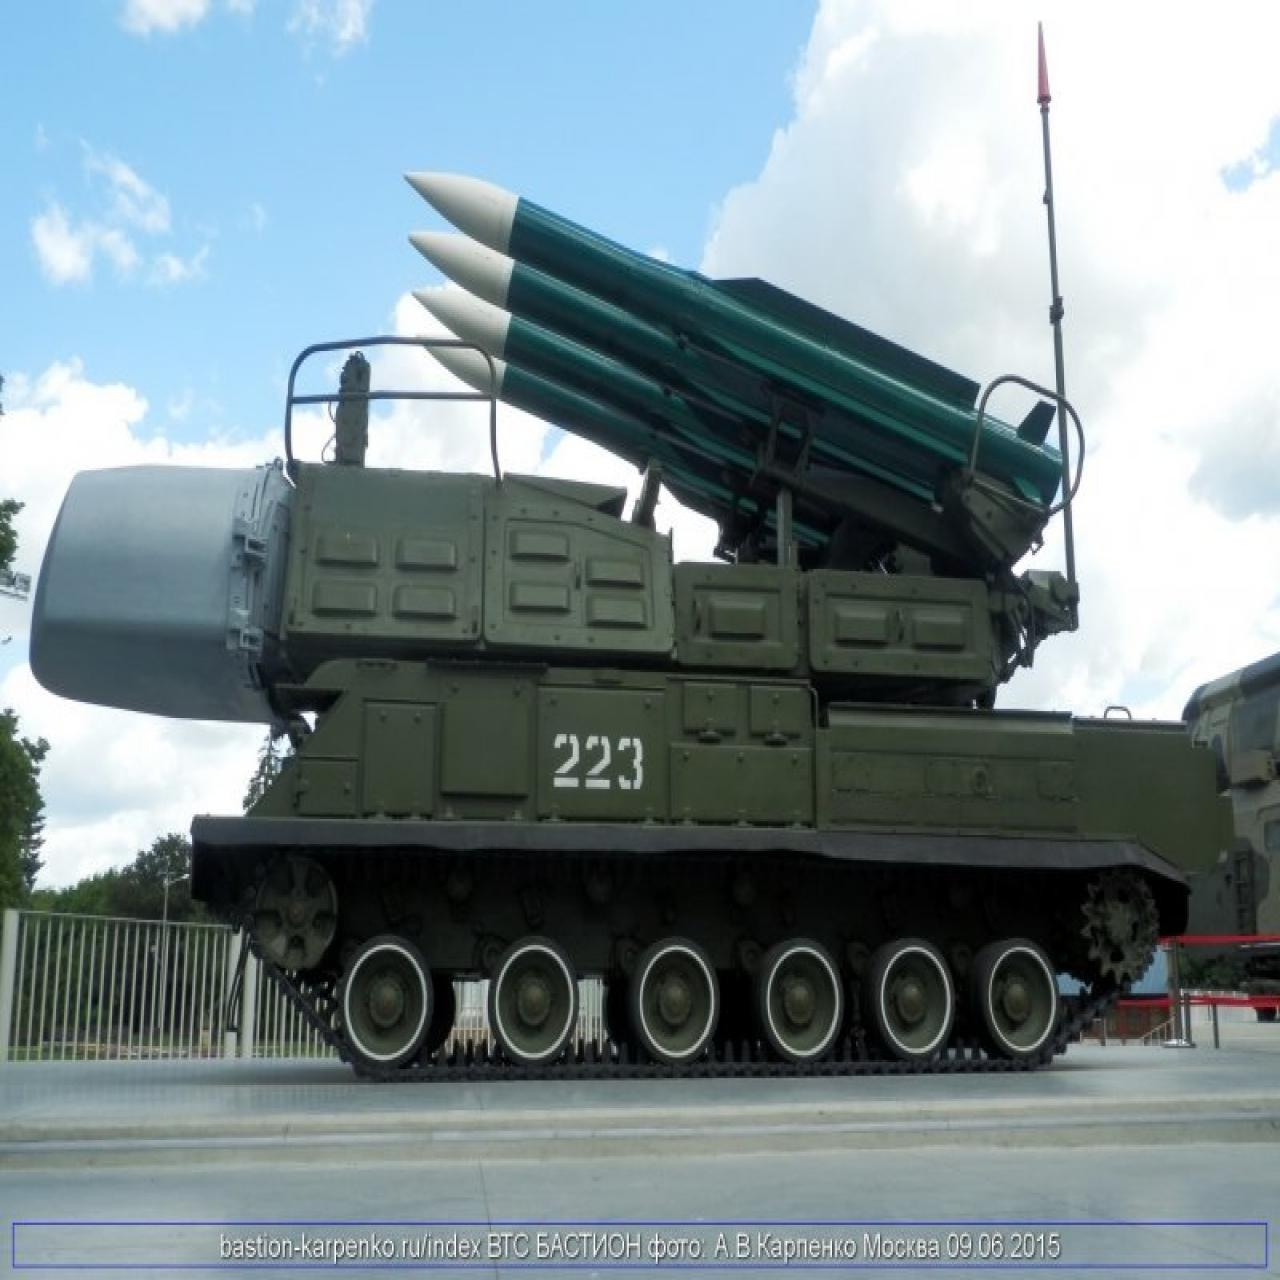MIL_Veh: (196, 168, 1212, 1096)
